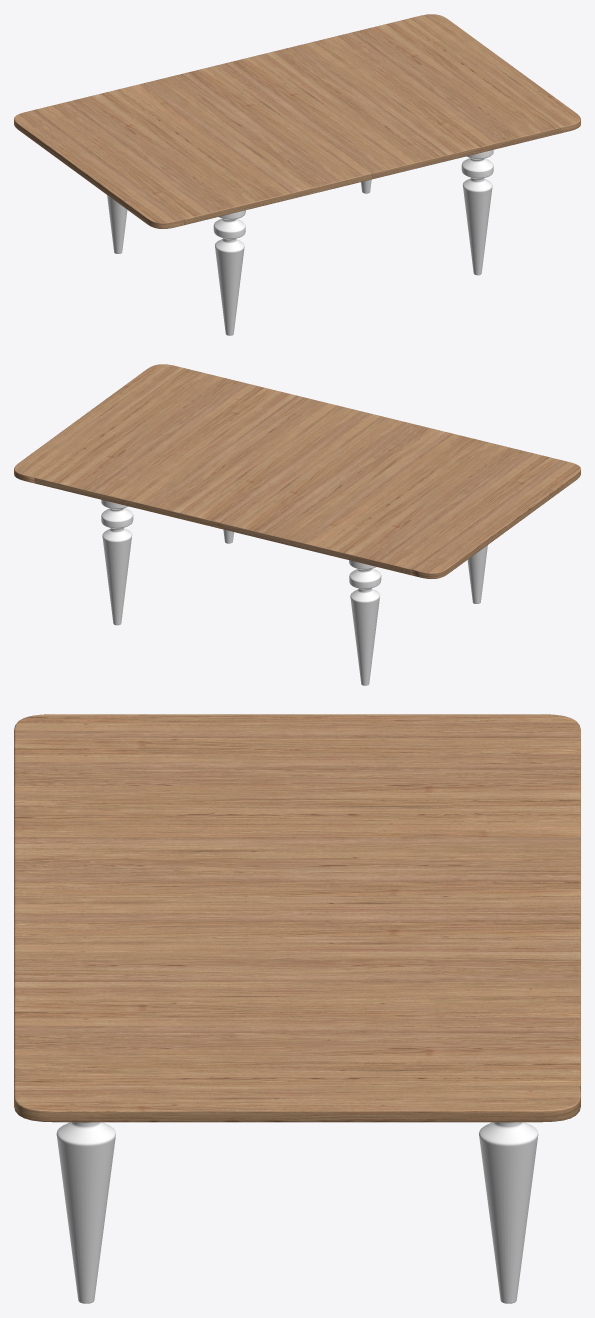
File: Table.glb
3 views of the same model, one above another, from view 1: azimuth 30°, elevation 25°; view 2: azimuth 150°, elevation 25°; view 3: azimuth 270°, elevation 25° (orthographic). The views are drawn at different scales.
Visible parts, largest first — view 1: Betty_Extending_Dining_Table_Oak_and_White001_OAK_0, Betty_Extending_Dining_Table_Oak_and_White001_WHITE_0; view 2: Betty_Extending_Dining_Table_Oak_and_White001_OAK_0, Betty_Extending_Dining_Table_Oak_and_White001_WHITE_0; view 3: Betty_Extending_Dining_Table_Oak_and_White001_OAK_0, Betty_Extending_Dining_Table_Oak_and_White001_WHITE_0.
Boxes of the visible parts, x1,y1,x2,y2 form: Betty_Extending_Dining_Table_Oak_and_White001_OAK_0: (14,14,580,228); Betty_Extending_Dining_Table_Oak_and_White001_WHITE_0: (107,150,493,335); Betty_Extending_Dining_Table_Oak_and_White001_OAK_0: (14,364,580,578); Betty_Extending_Dining_Table_Oak_and_White001_WHITE_0: (101,500,487,685); Betty_Extending_Dining_Table_Oak_and_White001_OAK_0: (14,714,580,1122); Betty_Extending_Dining_Table_Oak_and_White001_WHITE_0: (56,1122,538,1303).
Size of the model in its own units: 61.13 by 19.73 by 36.88.
Materials: 2 (1 with a texture image).
